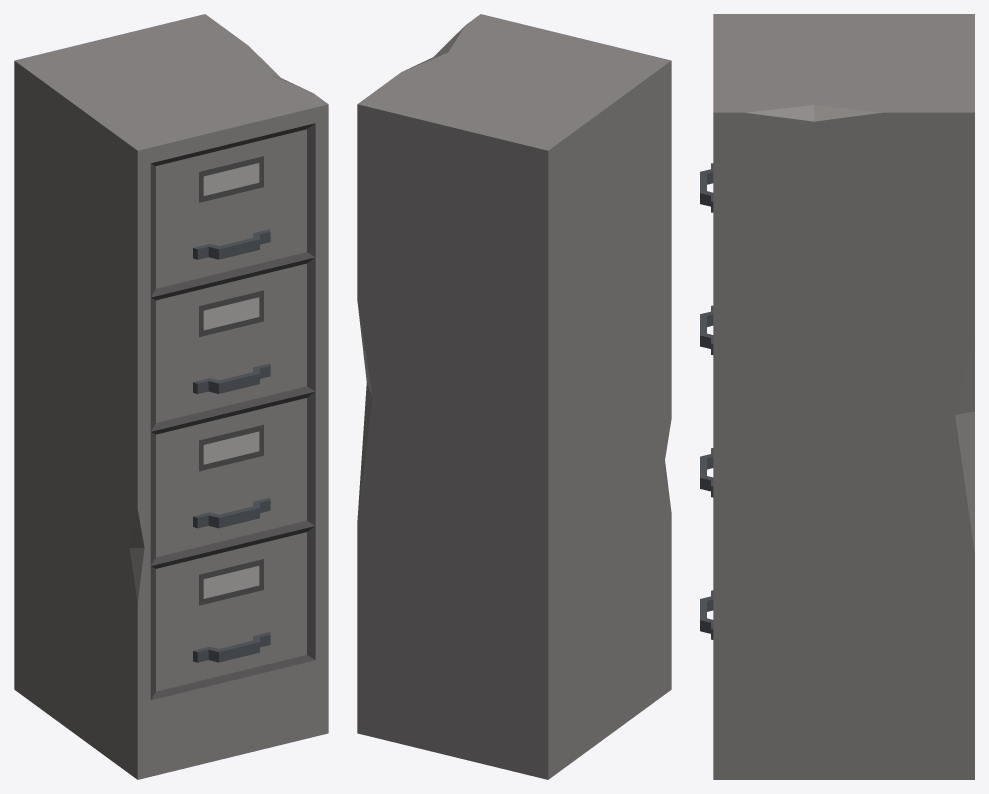
Rendered from SM_Prop_Cabinets_01.glb.
The picture shows the model from 3 angles, left to right: view 1: azimuth 30°, elevation 25°; view 2: azimuth 150°, elevation 25°; view 3: azimuth 270°, elevation 25°; orthographic projection. The views are drawn at different scales.
Parts seen in each view (by area): view 1: SM_Prop_Cabinets_01; view 2: SM_Prop_Cabinets_01; view 3: SM_Prop_Cabinets_01.
Boxes of the visible parts, box(x1,y1,x2,y2) form: SM_Prop_Cabinets_01: box(14, 14, 328, 779); SM_Prop_Cabinets_01: box(357, 14, 671, 779); SM_Prop_Cabinets_01: box(700, 14, 974, 779).
Bounding box in the file's own units: 0.4799 × 1.51 × 0.5644.
Materials: 1 (1 with a texture image).
